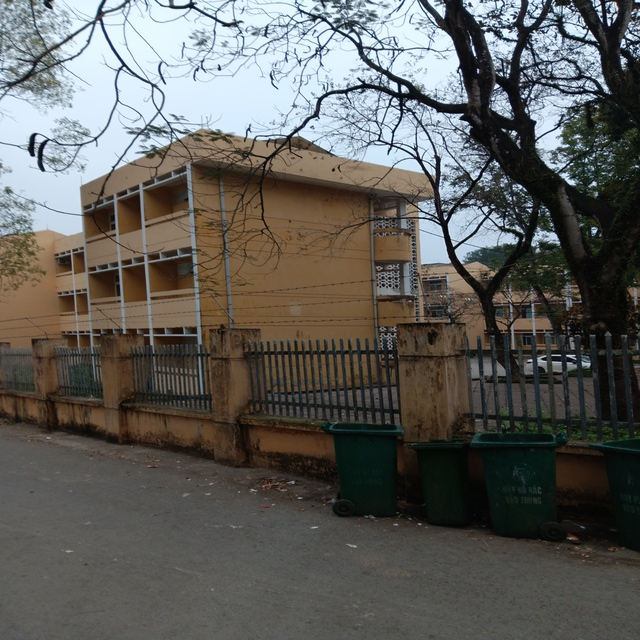thungrac: (469, 432, 559, 538), (328, 417, 401, 515), (416, 437, 468, 530), (604, 441, 640, 555)
